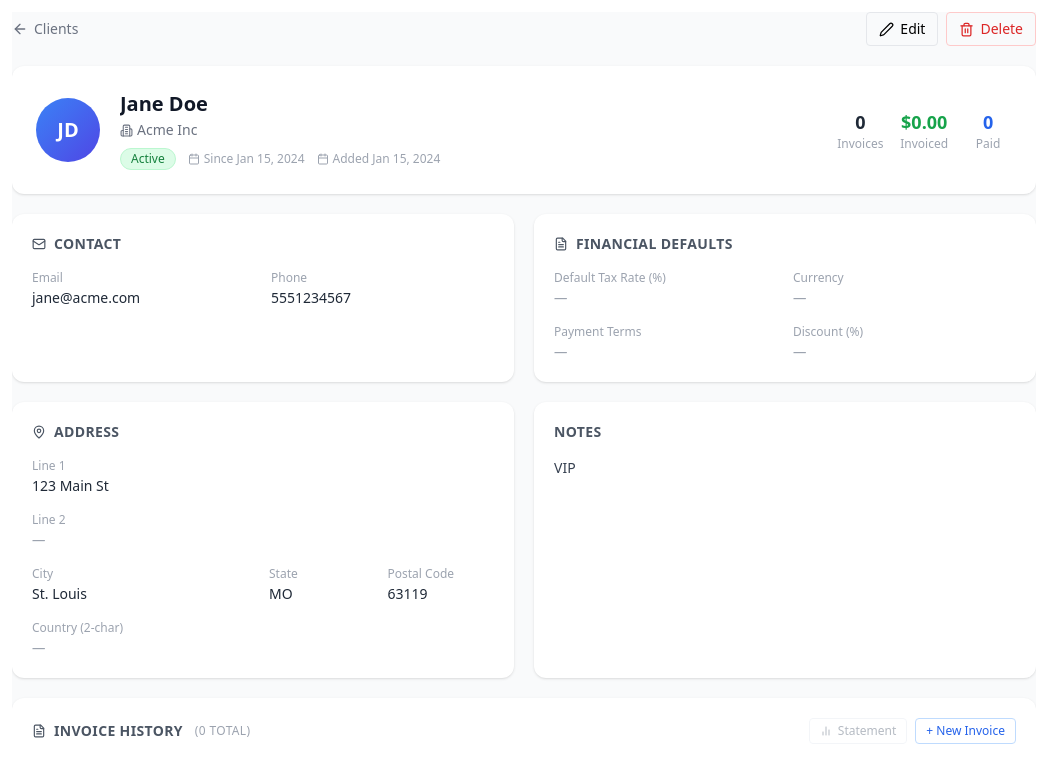
Test: ClientDetail — save payload › exits edit mode and shows success toast after a successful save
Check: the heading "Jane Doe" is shown, box [120,90,208,117]
Step 1. Click the button "Edit" → click(902, 29), box [866,12,938,46]
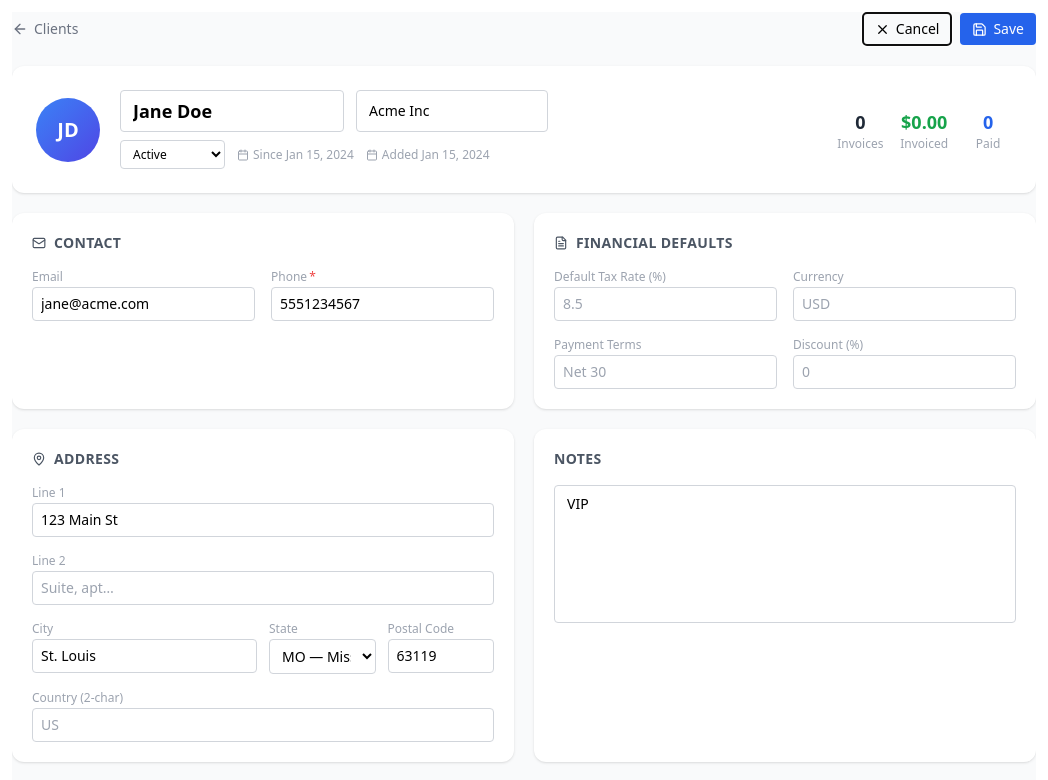
Step 2. Click the button "Save" → click(998, 29), box [960,13,1036,45]
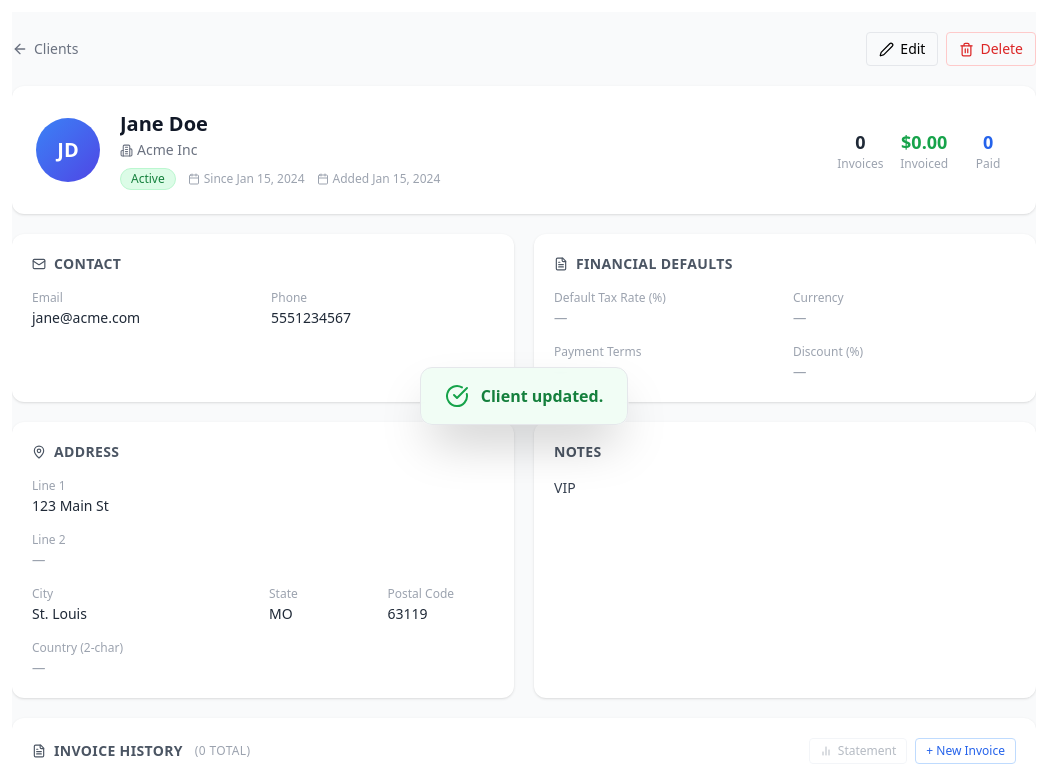
Check: the button "Save" is gone
Check: the button "Edit" is shown, box [866,32,938,66]
